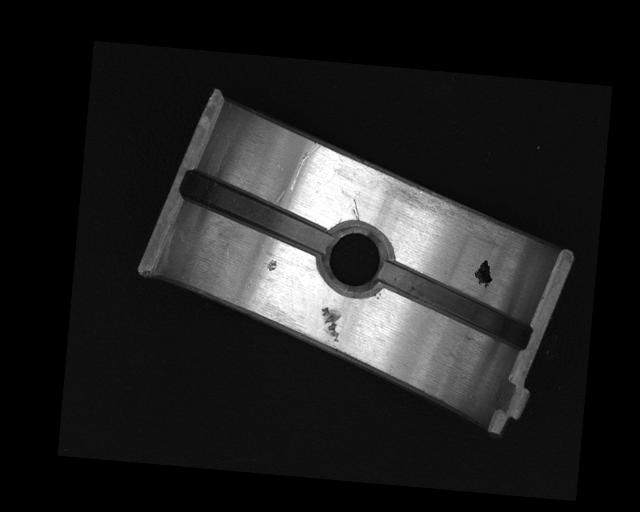blot: (473, 258, 494, 289)
bruise: (316, 305, 342, 343), (265, 257, 277, 273)
gap: (375, 259, 536, 349), (177, 171, 332, 253)
hole: (316, 216, 395, 297)
nick: (287, 139, 320, 193), (349, 198, 362, 223)
scratch: (388, 178, 522, 241)
